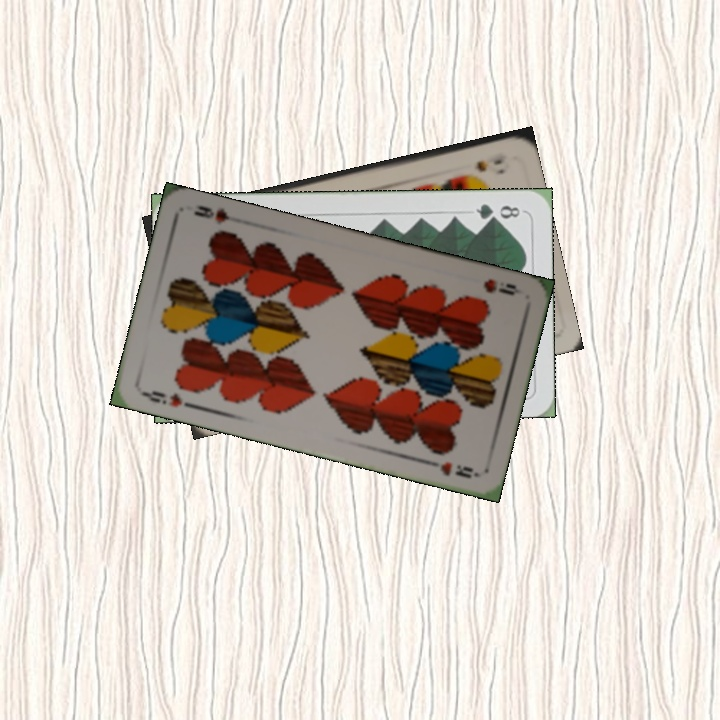G8: (472, 199, 523, 223)
H9: (138, 386, 185, 410), (479, 274, 519, 298)
S10: (470, 148, 510, 173)
